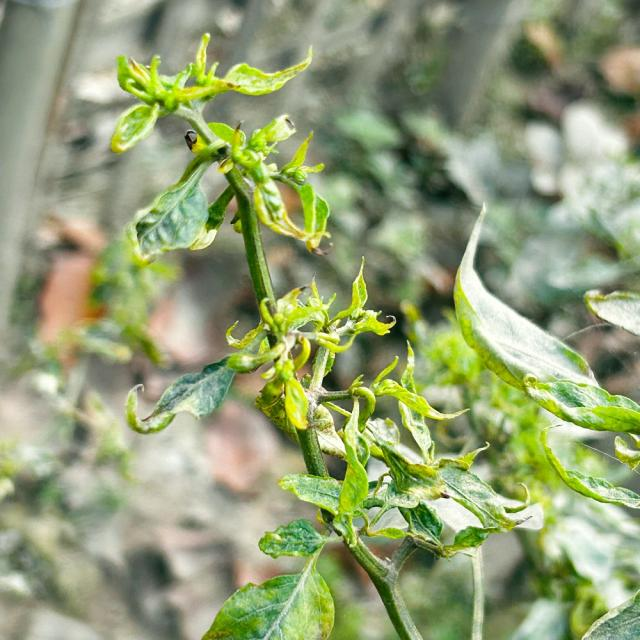Chilli_Leaf_Curl: (108, 32, 637, 638), (451, 200, 639, 508), (108, 32, 331, 266), (108, 32, 313, 154), (200, 546, 335, 639), (124, 354, 238, 434)
